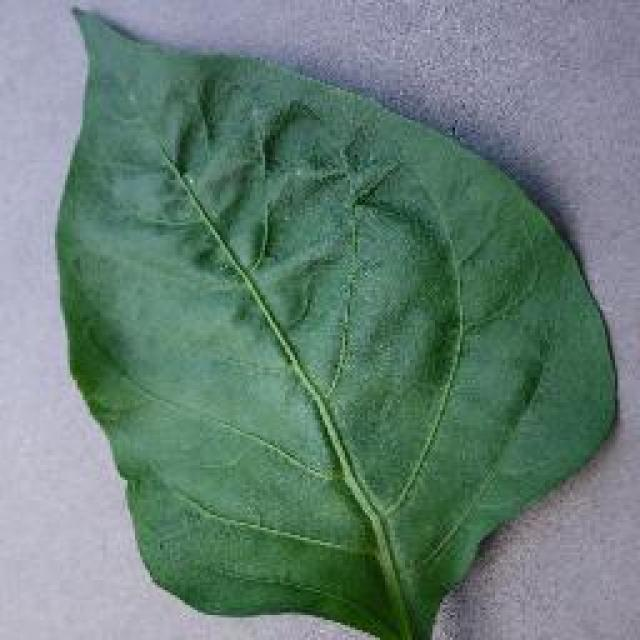Chilli_Healthy: (52, 2, 620, 638)
